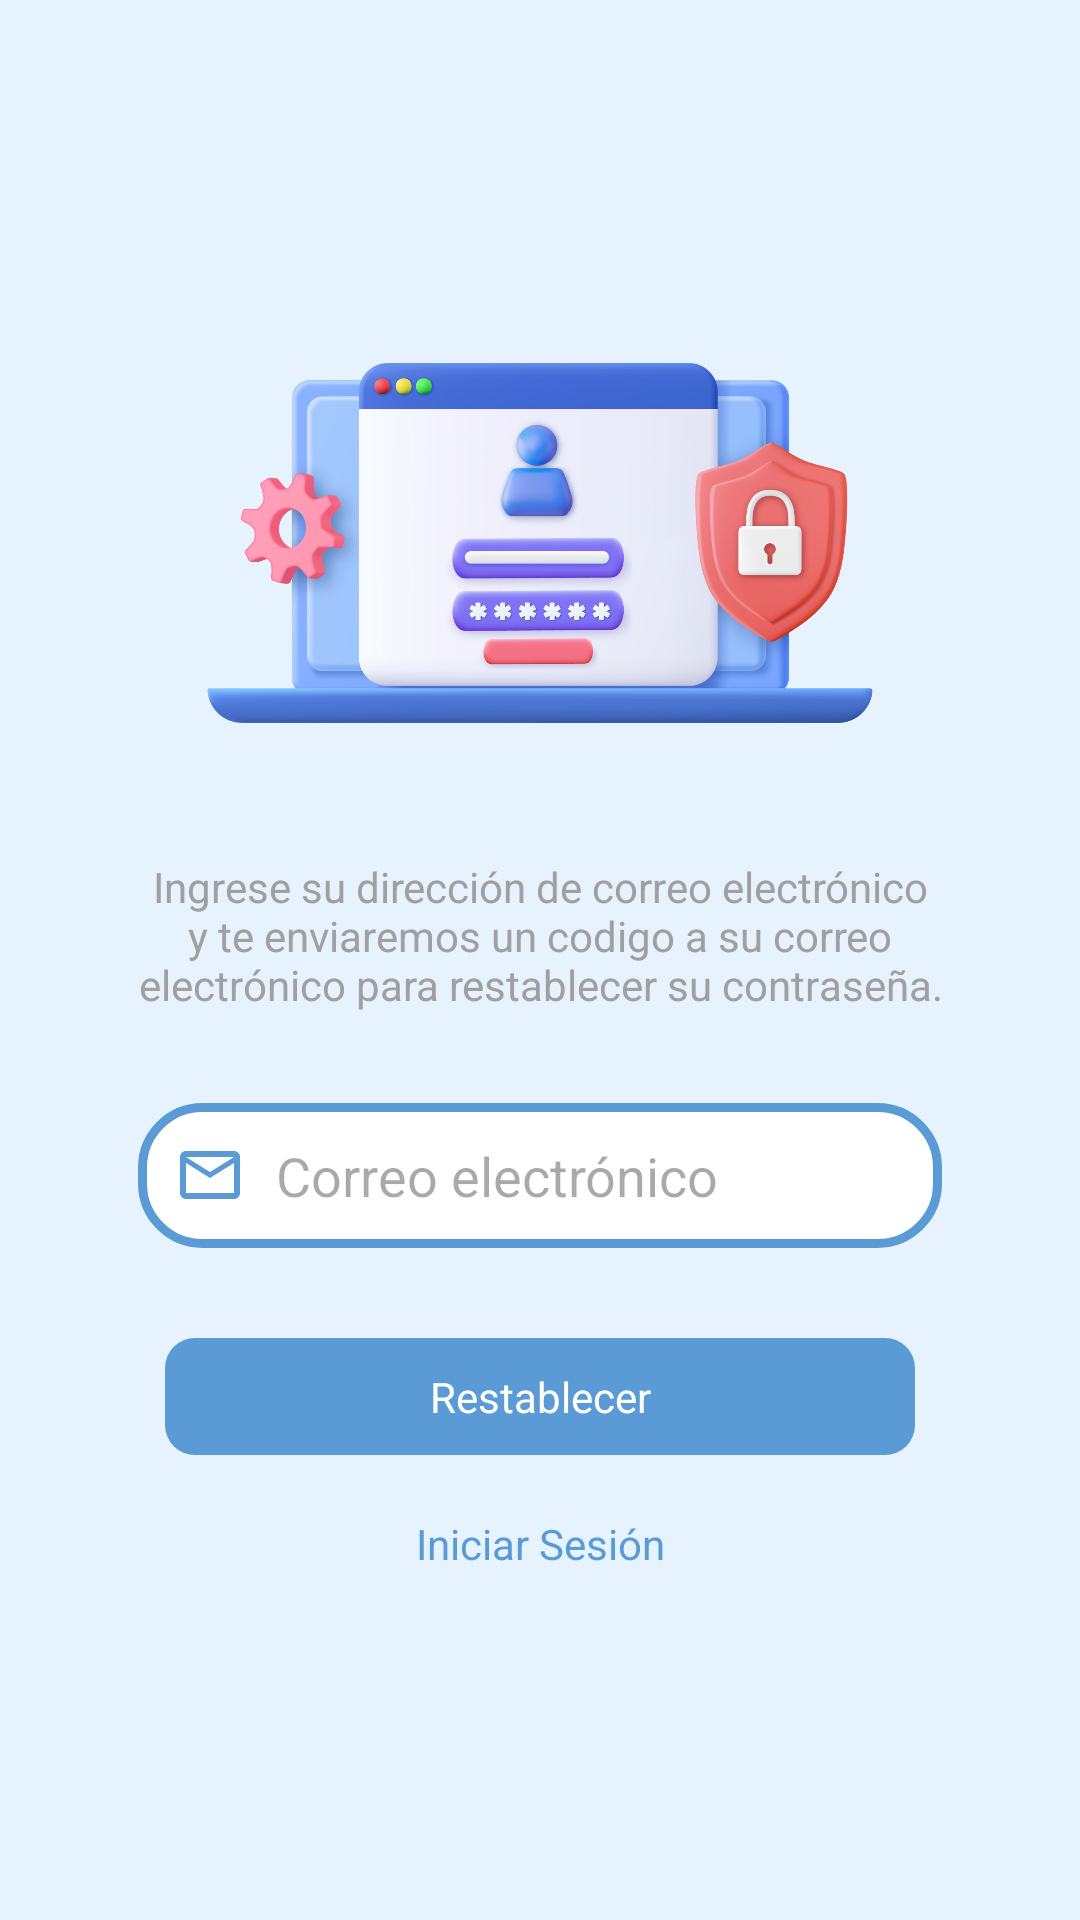

Icon bounding boxes for this 1080px x 1920px phone screenshot, format bbox=[x1, y1, x2, y2]:
Icon email: bbox=[180, 1151, 240, 1199]
